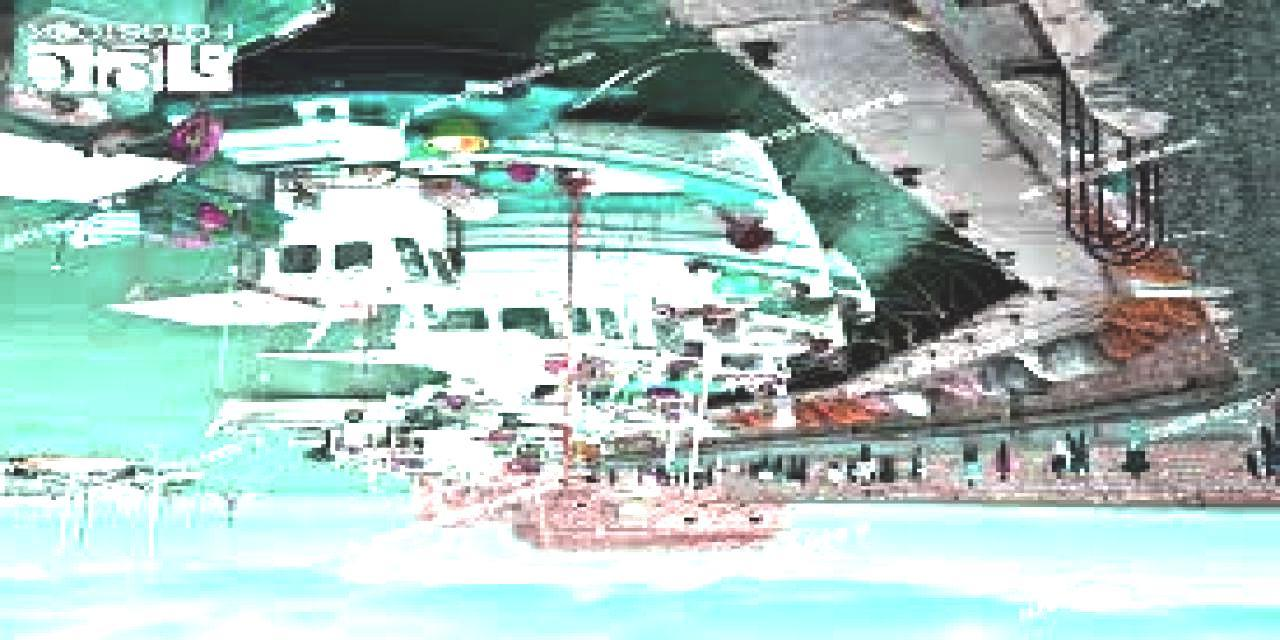Kules: (417, 472, 793, 557)
